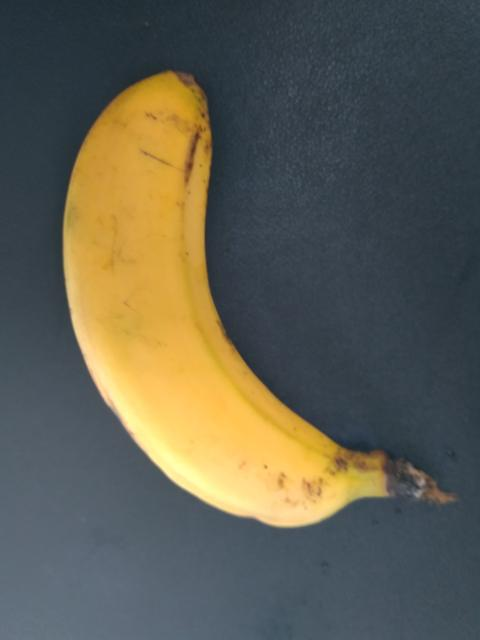freshripe: (53, 70, 411, 583)
